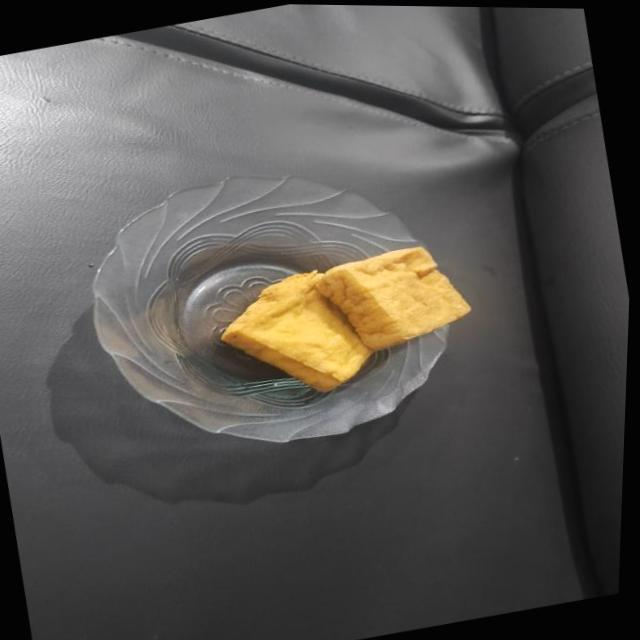tahu_goreng: (222, 270, 376, 392), (316, 248, 471, 350)
